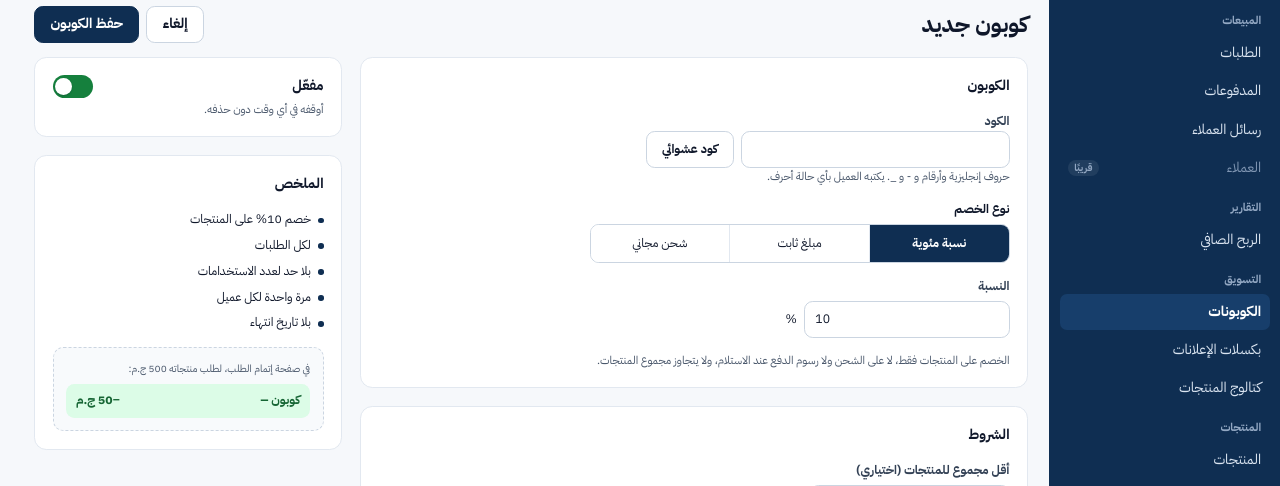
Scenario: CouponEditor › checks the fields before sending, and shows a taken code on its field
Type "ab" into the field labelled "الكود".
click(875, 150); type("ab")  # box [741,131,1010,168]
(page scrolled)
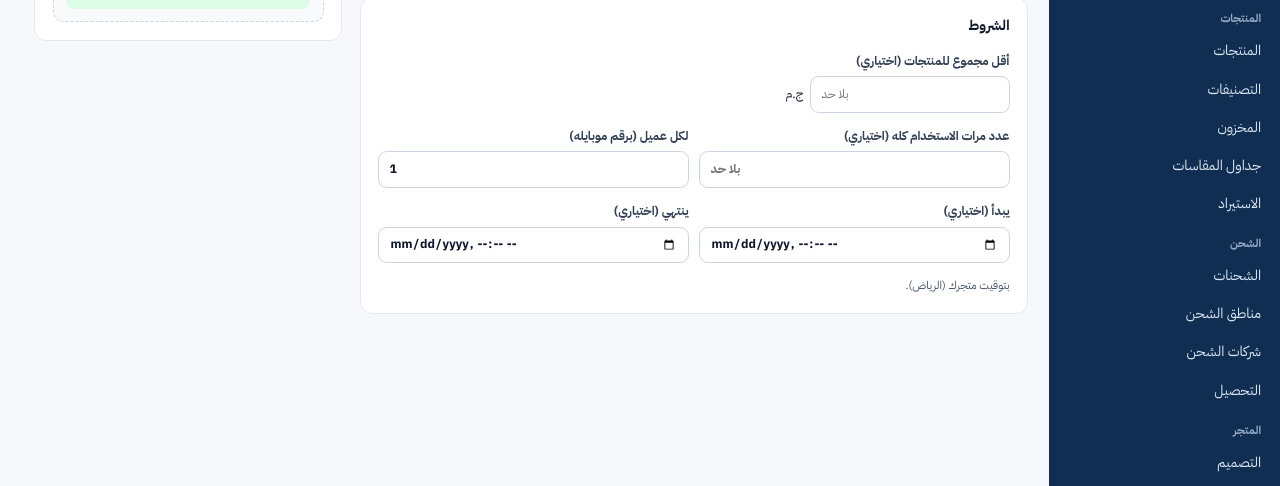
Type "2026-11-15T10:00" into the field labelled "يبدأ (اختياري)".
click(854, 245); type("2026-11-15T10:00")  # box [699,227,1010,264]
Type "2026-11-14T10:00" into the field labelled "ينتهي (اختياري)".
click(533, 245); type("2026-11-14T10:00")  # box [378,227,688,264]
(page scrolled)
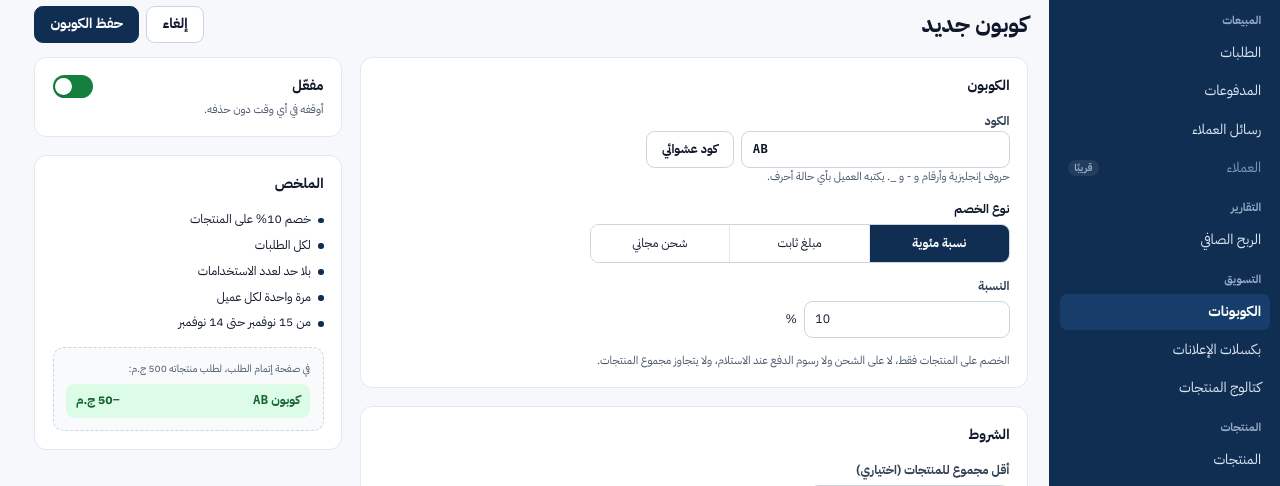
Click the button "حفظ الكوبون".
click(87, 24)  # box [34,6,139,43]
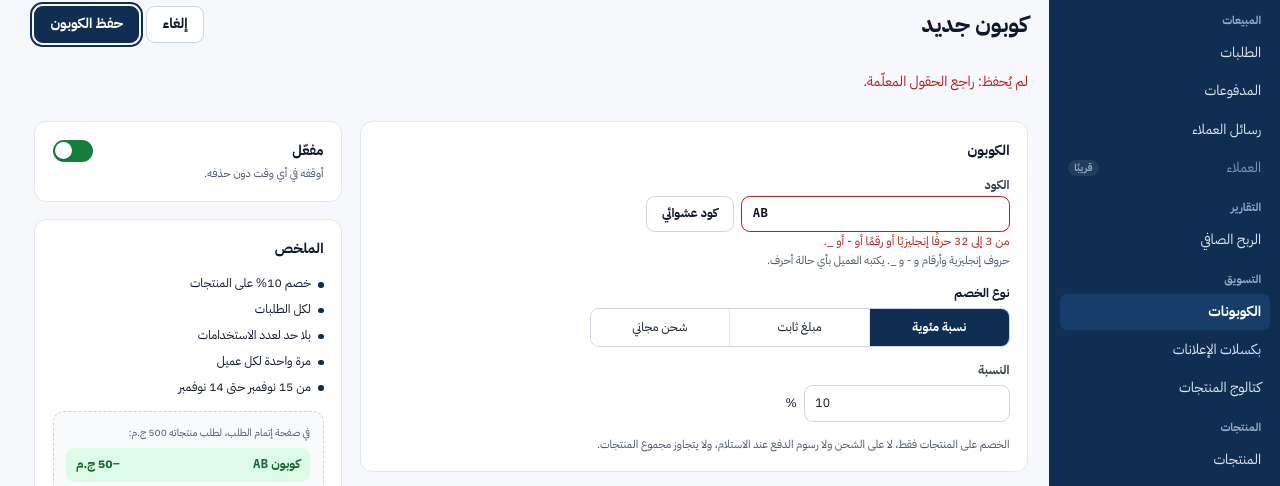
Now the text "من 3 إلى 32 حرفًا إنجليزيًا أو رقمًا أو - أو _." is shown, box [824,232,1010,250]
Replace the text in the field labelled "الكود" with "SUMMER10" at coordinates (875, 214), box [741,196,1010,232]
(page scrolled)
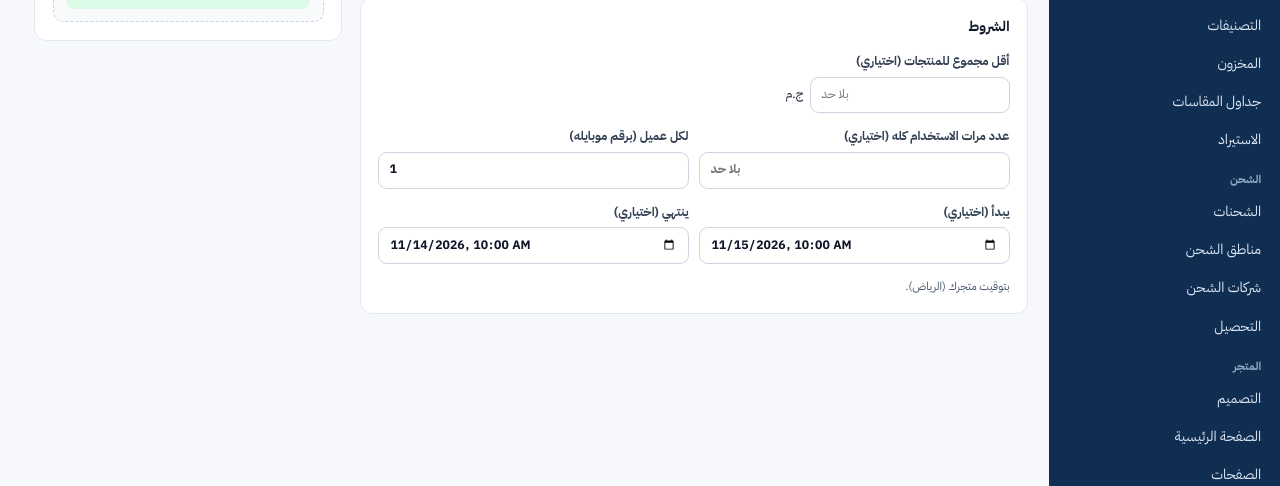
Clear the field labelled "ينتهي (اختياري)" at coordinates (533, 246), box [378,227,688,264]
(page scrolled)
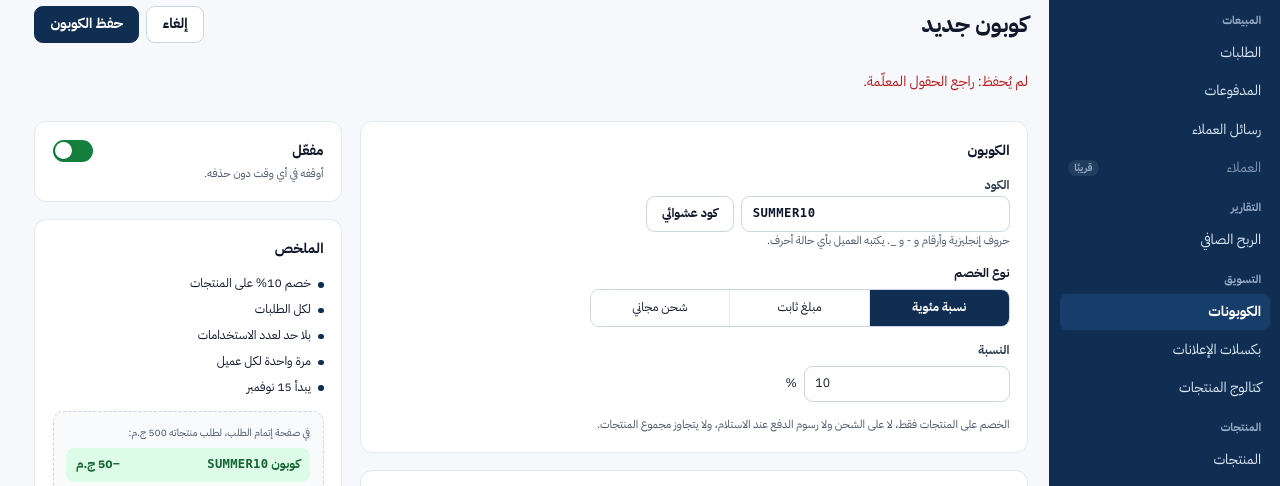
Click the button "حفظ الكوبون".
click(87, 24)  # box [34,6,139,43]
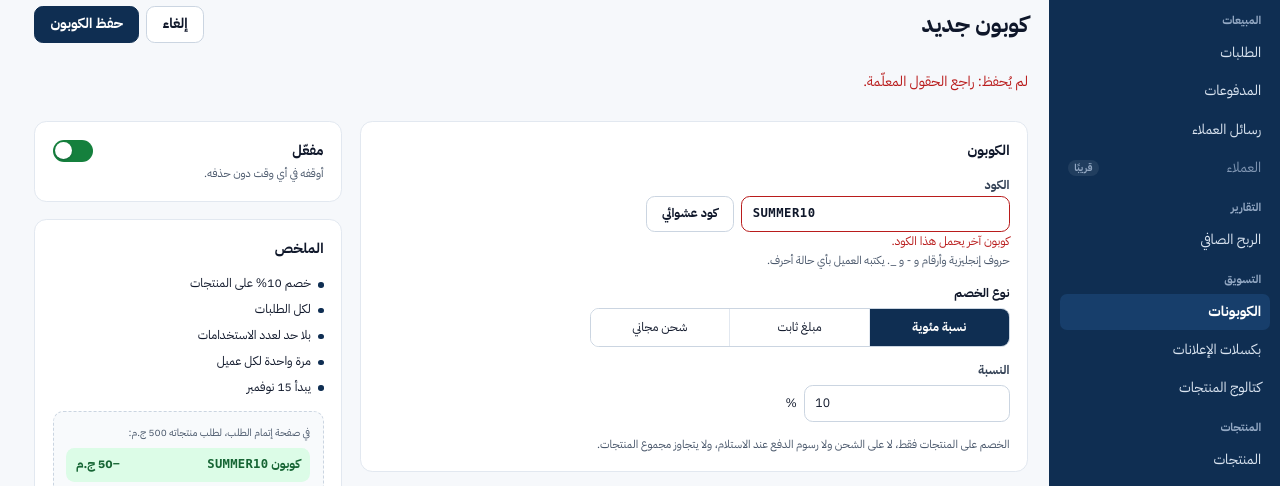
Now the text "كوبون آخر يحمل هذا الكود." is shown, box [892,232,1010,250]
